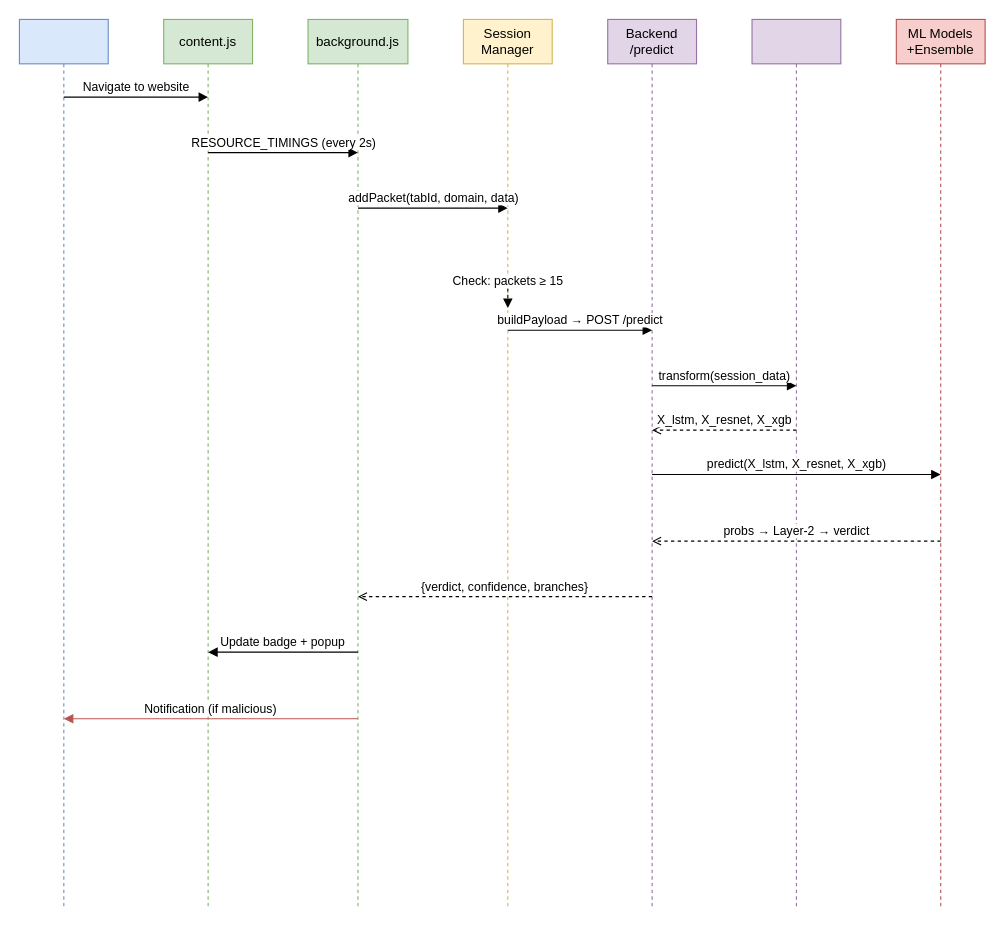
Some shapes in this 1005 by 927 pixel diagram are drawn without their labels. Each missing label, with the box of its shape:
End User: (18, 18, 108, 907)
Feature Transform: (751, 18, 841, 907)
